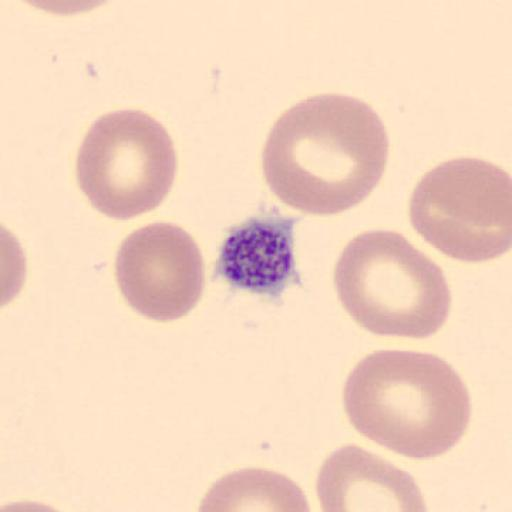Platelet: (208, 212, 303, 298)
RBC: (259, 90, 392, 219), (341, 348, 474, 460), (331, 226, 453, 340), (74, 105, 178, 222), (406, 154, 511, 265), (113, 219, 206, 324), (314, 440, 428, 512), (193, 465, 313, 512), (1, 222, 29, 310), (8, 0, 126, 18), (0, 496, 85, 511)
WBC: (1, 245, 238, 511)
